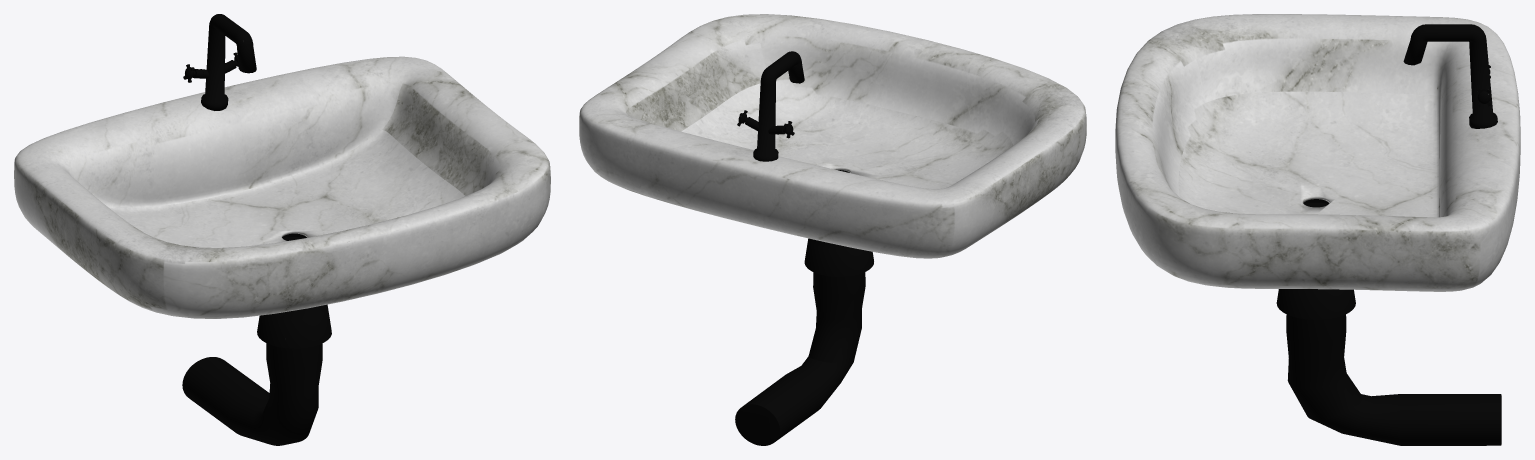
File: sink_2.glb
3 views of the same model, side by side, from view 1: azimuth 30°, elevation 25°; view 2: azimuth 150°, elevation 25°; view 3: azimuth 270°, elevation 25° (orthographic). The views are drawn at different scales.
Visible parts, largest first — view 1: Cube; view 2: Cube; view 3: Cube.
Boxes of the visible parts, <box> form: Cube: <box>14,14,550,445</box>; Cube: <box>579,14,1086,445</box>; Cube: <box>1115,14,1520,445</box>.
Size of the model in its own units: 2.74 by 2.43 by 2.14.
1 material, 1 textured.
